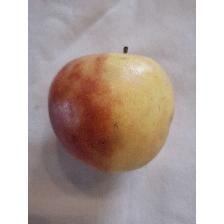Apfel: (46, 44, 176, 176)
